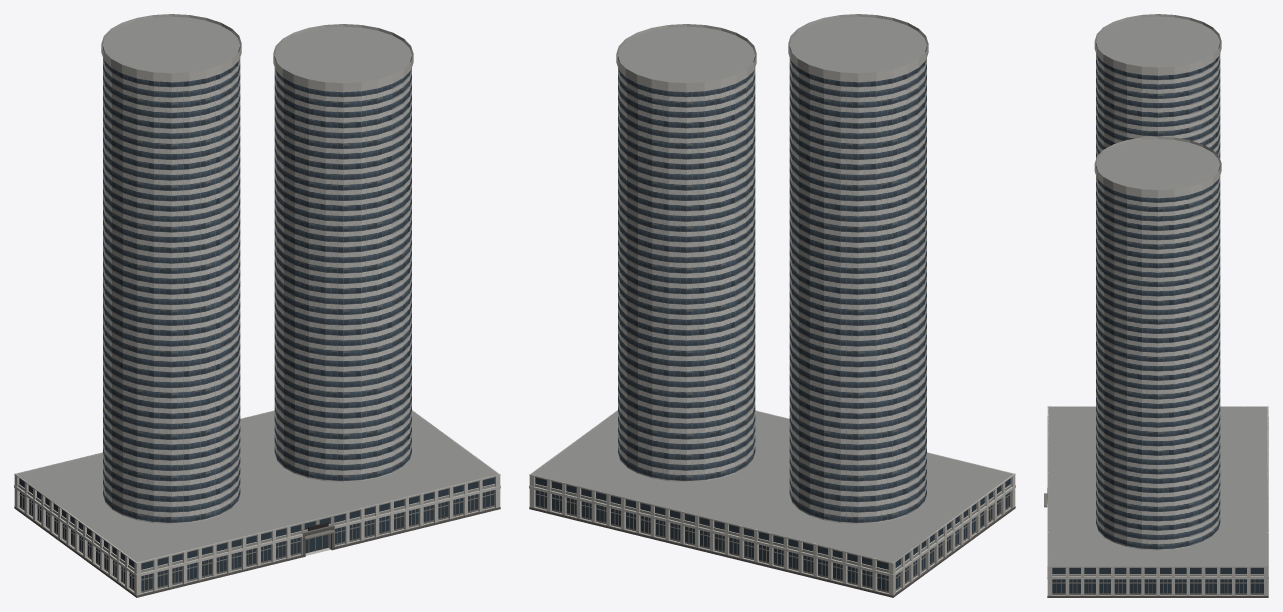
File: westin_seattle.glb
3 views of the same model, side by side, from view 1: azimuth 30°, elevation 25°; view 2: azimuth 150°, elevation 25°; view 3: azimuth 270°, elevation 25° (orthographic). The views are drawn at different scales.
Visible parts, largest first — view 1: westin_seattle; view 2: westin_seattle; view 3: westin_seattle.
Boxes of the visible parts, <box> form: westin_seattle: <box>14,14,500,597</box>; westin_seattle: <box>529,14,1015,597</box>; westin_seattle: <box>1044,14,1268,597</box>.
Size of the model in its own units: 110 by 141 by 65.24.
Materials: 2 (2 with a texture image).
